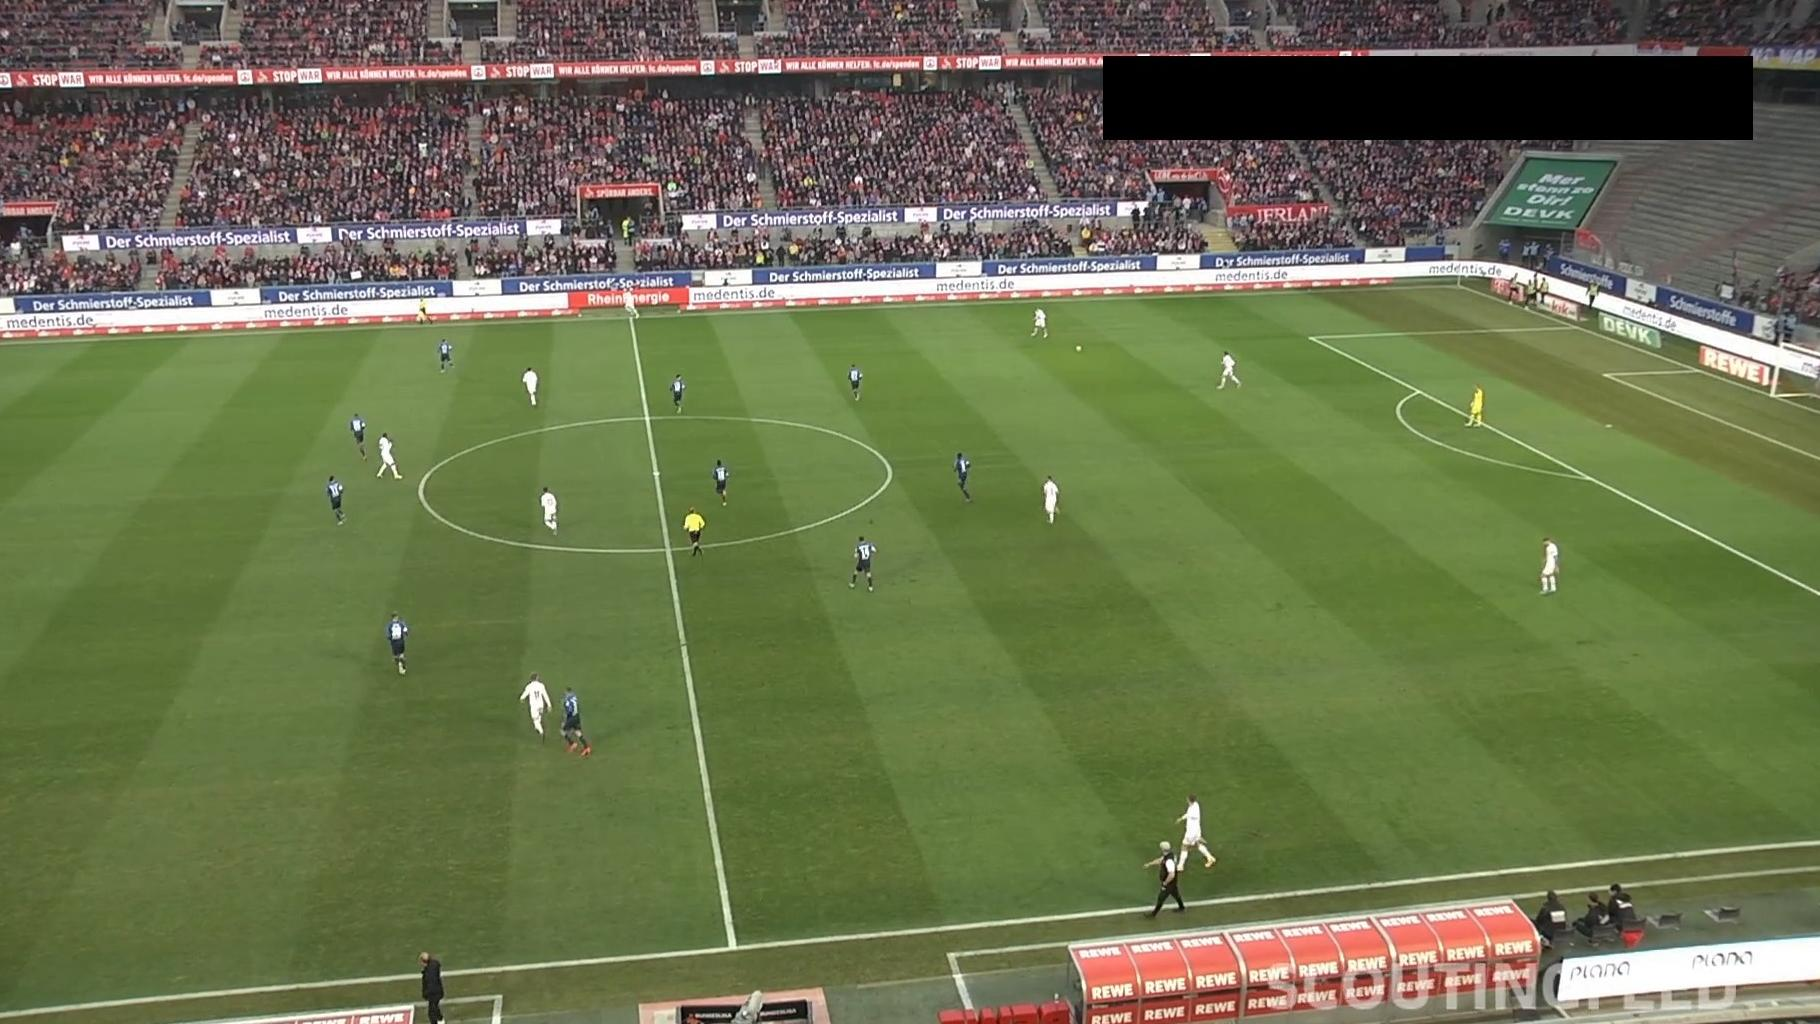ball: (1074, 344, 1084, 354)
